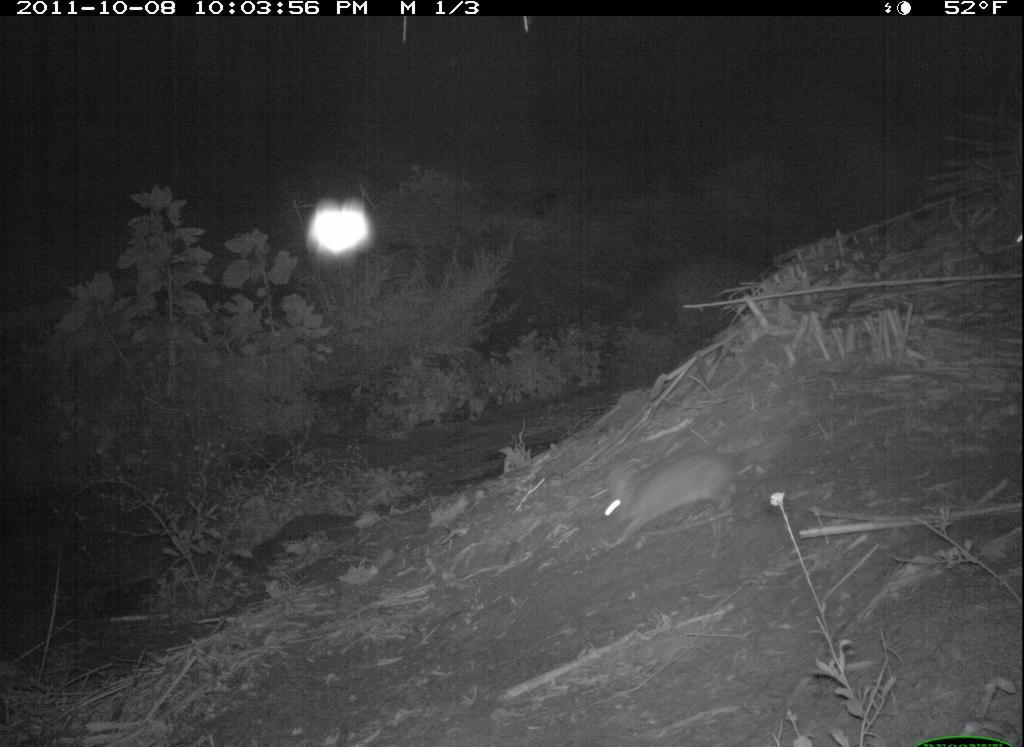rabbit: (580, 445, 762, 562)
